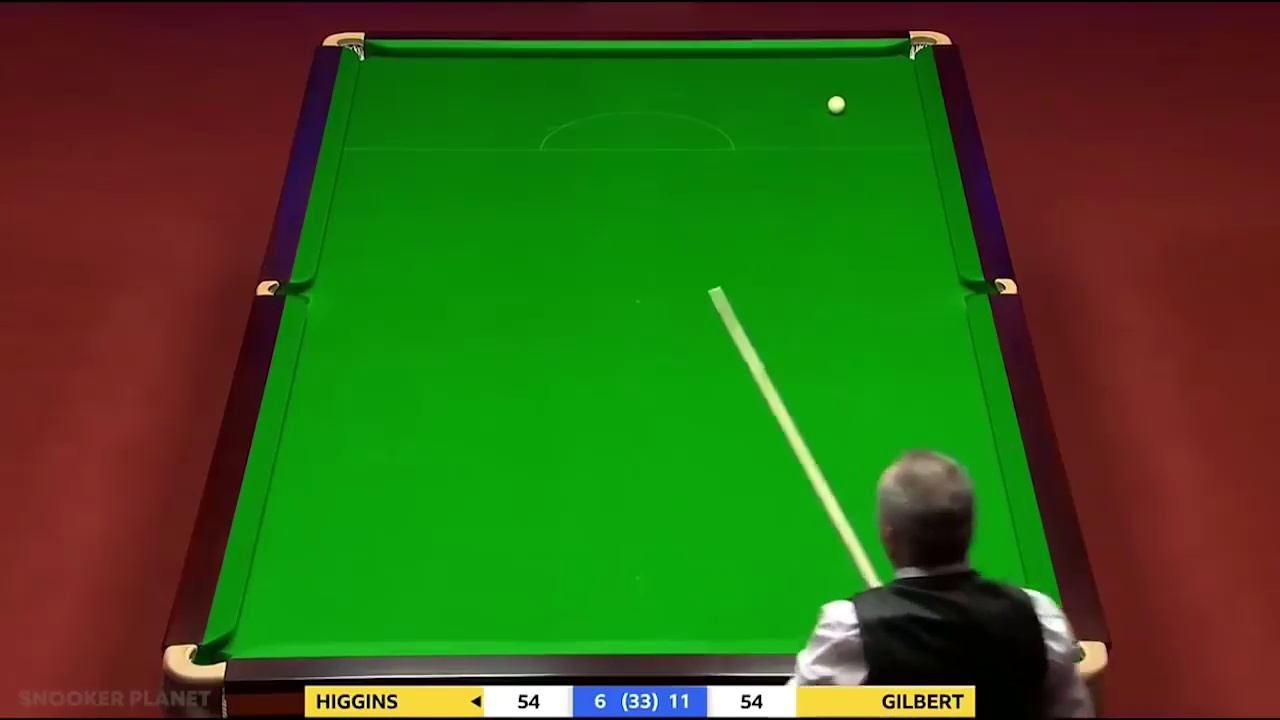ball: (827, 92, 845, 113)
